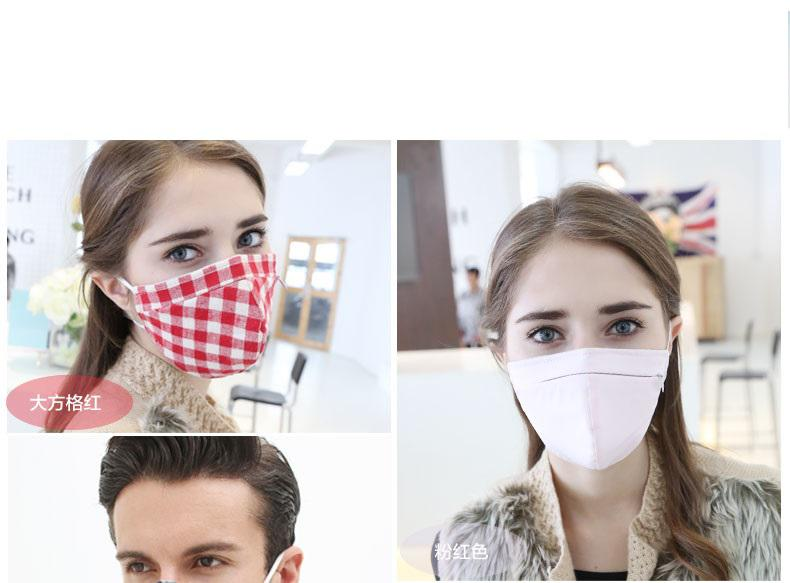OK: (513, 290, 666, 451), (117, 210, 272, 367)
